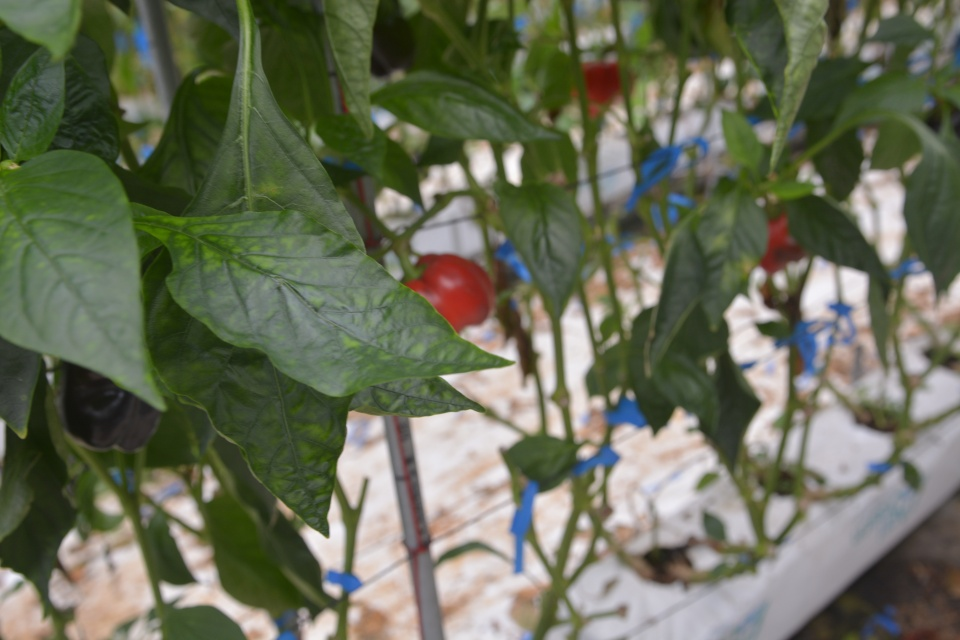fruit: (60, 354, 160, 452), (398, 251, 495, 336), (572, 59, 635, 116), (759, 212, 806, 272)
pedicle: (400, 258, 427, 282)
